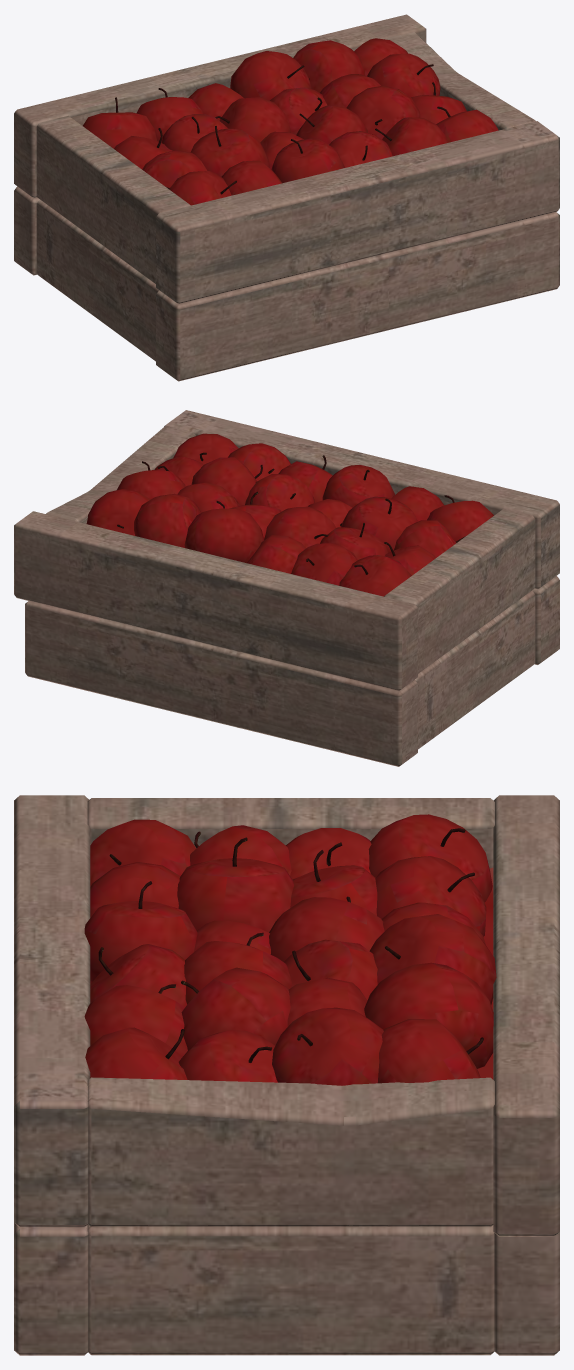
Rendered from SM_Apple_crate.glb.
3 renders of one model, top to bottom at view 1: azimuth 30°, elevation 25°; view 2: azimuth 150°, elevation 25°; view 3: azimuth 270°, elevation 25°, orthographic. The views are drawn at different scales.
Parts seen in each view (by area): view 1: SM_Apple_crate; view 2: SM_Apple_crate; view 3: SM_Apple_crate.
Part boxes in pixels (x1,y1,x2,y2): SM_Apple_crate: [14, 14, 559, 381]; SM_Apple_crate: [14, 410, 559, 766]; SM_Apple_crate: [14, 795, 559, 1355].
Bounding box in the file's own units: 0.8887 × 0.394 × 0.641.
Materials: 2 (2 with a texture image).
